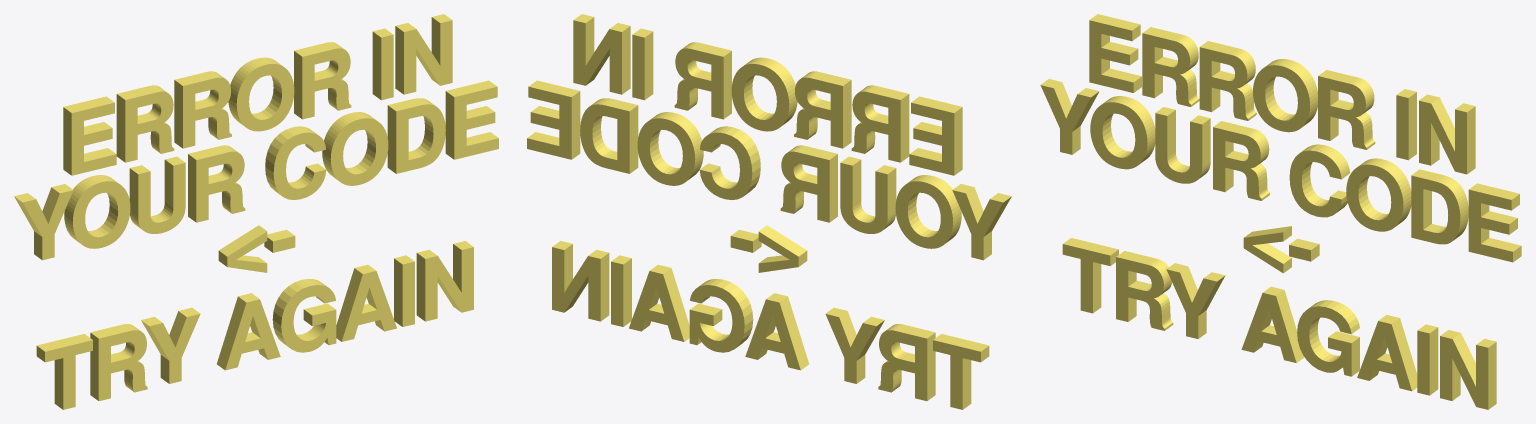
The model's file is error.glb.
3 views of the same model, side by side, from view 1: azimuth 30°, elevation 25°; view 2: azimuth 150°, elevation 25°; view 3: azimuth 330°, elevation 25° (orthographic).
Bounding box in the file's own units: 96.69 × 57.73 × 3.
